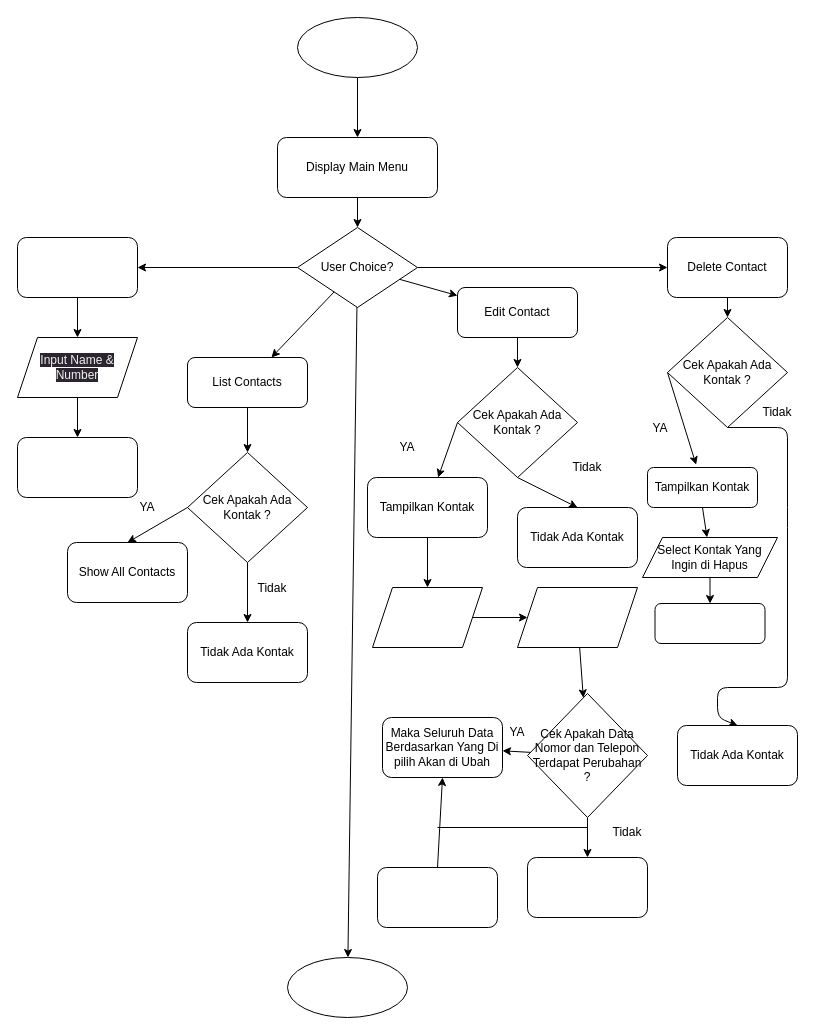
The diagram is 825 pixels wide and 1035 high, and some of its shapes have lost their labels. Here are the shapes that lost their labels. From the top down, the centre of each, then its label:
point 357,47: Start Program
point 77,267: Add Contact
point 77,467: Save to List
point 427,617: Input Nomor Yang ingin dipilih
point 577,617: Input perubahan Nama Dan Nomor
point 709,623: Kontak Berhasil Di Hapus
point 437,897: Data Contact Berhail Di Ubah
point 587,887: Maka Salah satu Dari Data Yang Ingin Tidak Di Ubah Akan Di Terapkan
point 347,987: Exit Program
